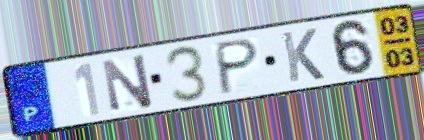1: (73, 61, 102, 117)
3: (163, 44, 210, 105)
6: (329, 17, 378, 79)
K: (279, 27, 327, 85)
N: (99, 51, 156, 113)
P: (214, 37, 262, 98)
